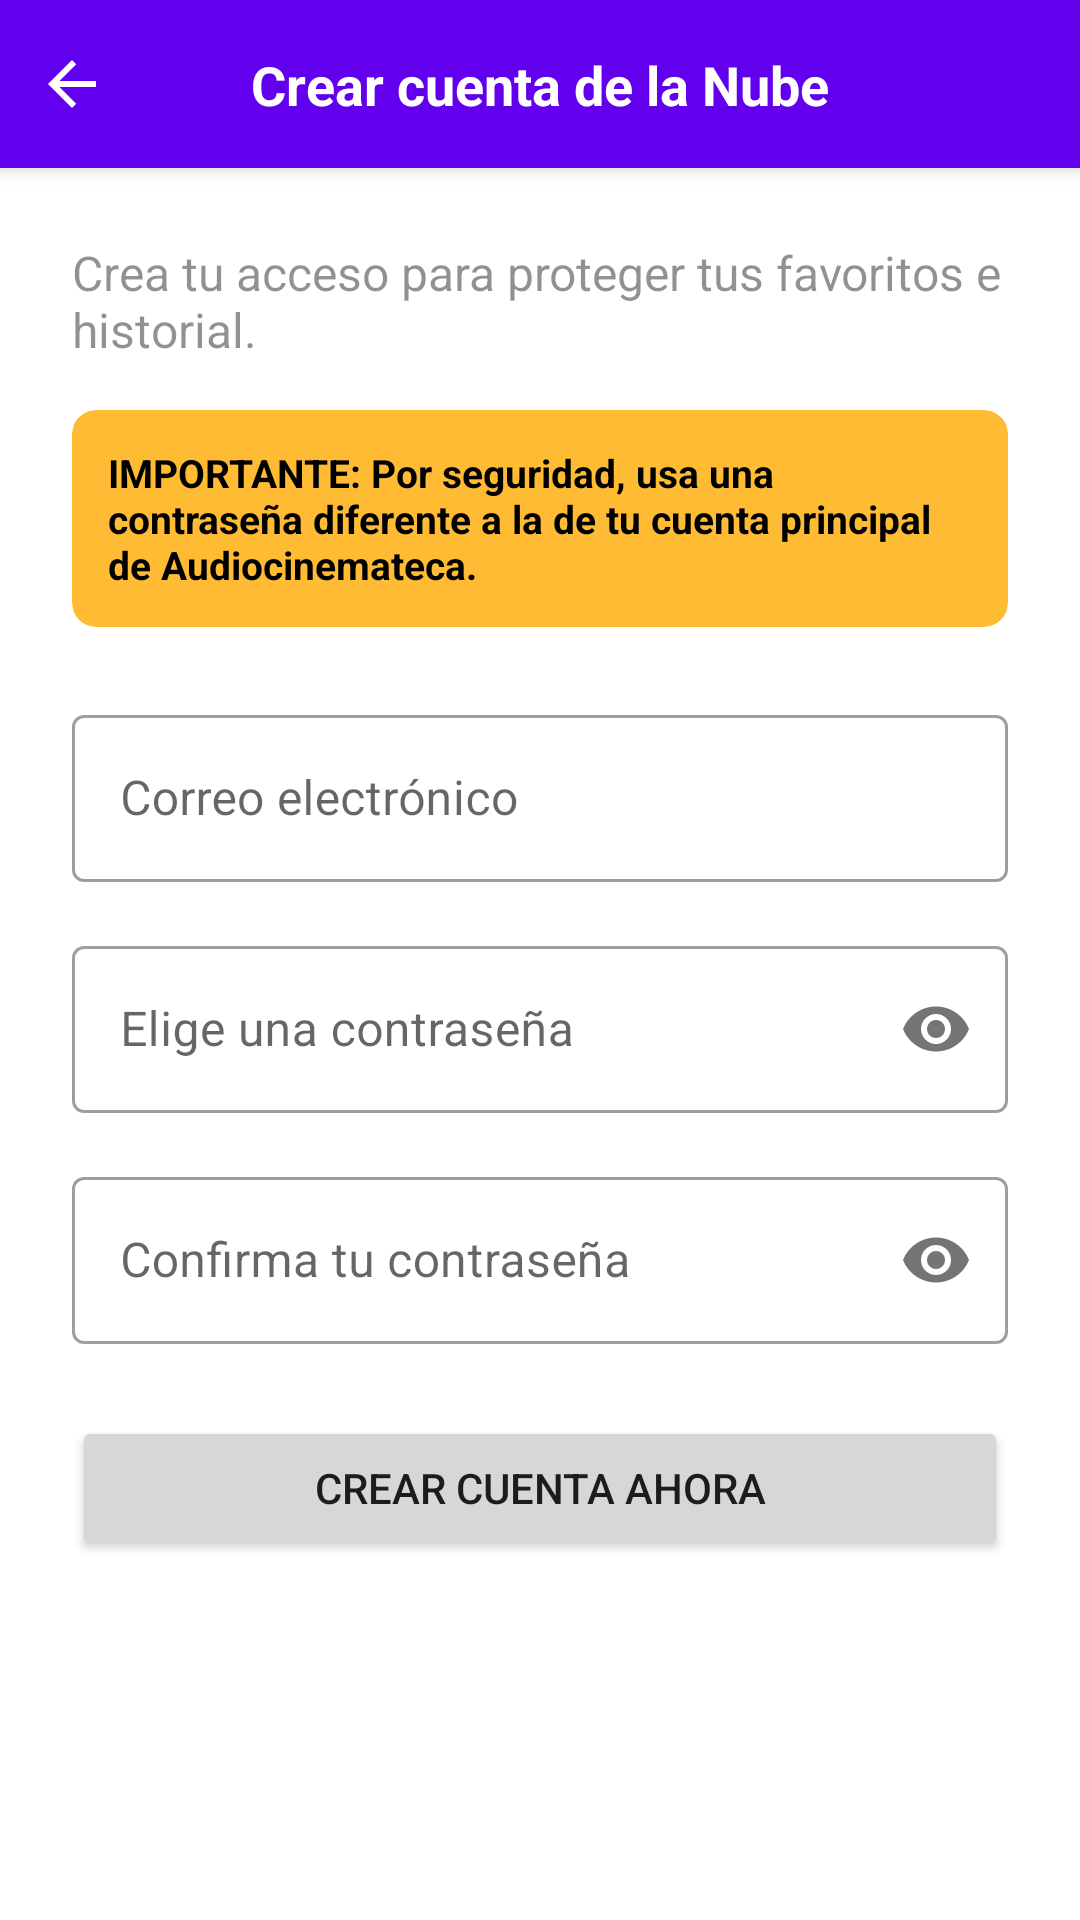

Icon click points for this 1080w x 1920h phone screenshot, format [x,y]:
Volver: [72,84]
